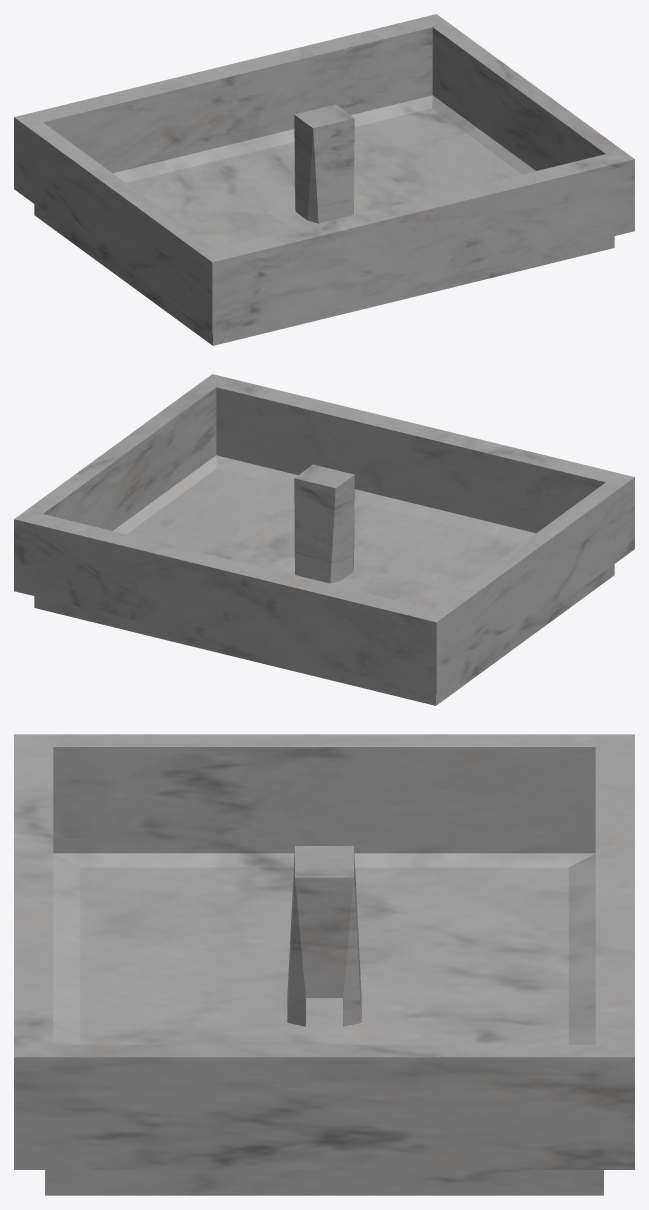
Rendered from Bathtub.fbx.
3 renders of one model, top to bottom at view 1: azimuth 30°, elevation 25°; view 2: azimuth 150°, elevation 25°; view 3: azimuth 270°, elevation 25°, orthographic. The views are drawn at different scales.
Visible parts, largest first — view 1: pCube1; view 2: pCube1; view 3: pCube1.
Part boxes in pixels (bbox=[...]): pCube1: bbox=[14, 14, 634, 345]; pCube1: bbox=[14, 374, 634, 705]; pCube1: bbox=[14, 734, 634, 1195].
Bounding box in the file's own units: 519 × 135 × 422.
